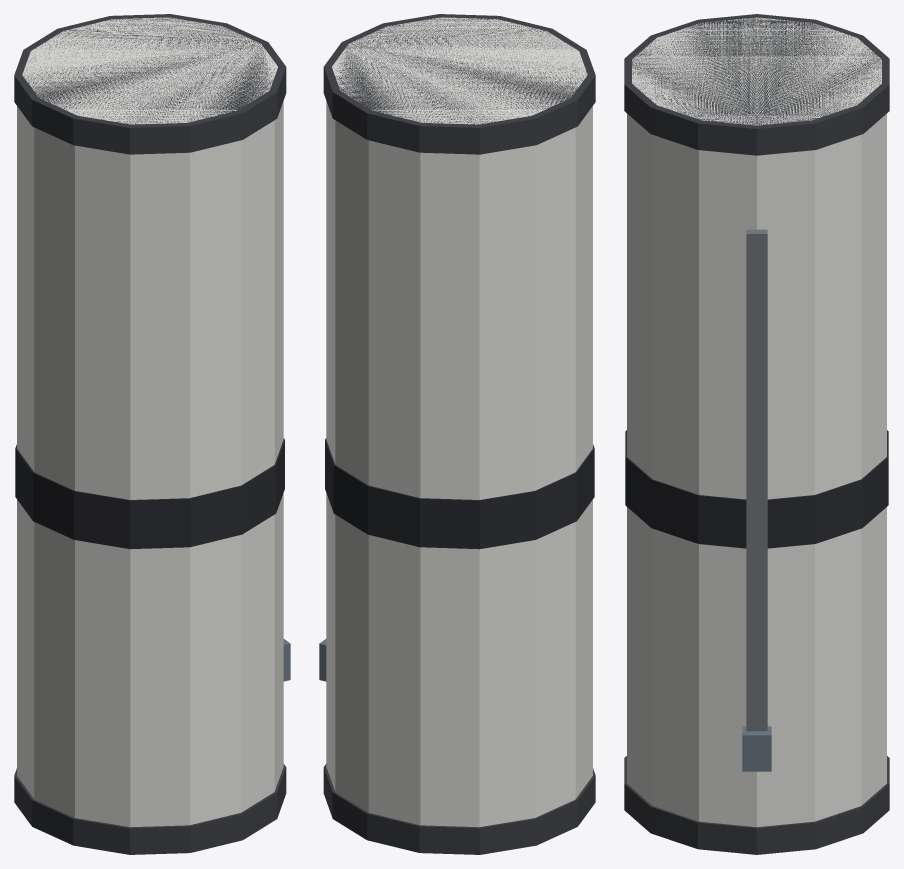
File: Tank_M_Long.fbx
The picture shows the model from 3 angles, left to right: view 1: azimuth 30°, elevation 25°; view 2: azimuth 150°, elevation 25°; view 3: azimuth 270°, elevation 25°; orthographic projection.
Parts seen in each view (by area): view 1: Tank_M_Long; view 2: Tank_M_Long; view 3: Tank_M_Long.
Boxes of the visible parts, x1,y1,x2,y2 form: Tank_M_Long: [14, 14, 290, 854]; Tank_M_Long: [319, 14, 595, 854]; Tank_M_Long: [624, 14, 889, 854].
Size of the model in its own units: 2.17 by 6 by 1.99.
Materials: 1 (1 with a texture image).
